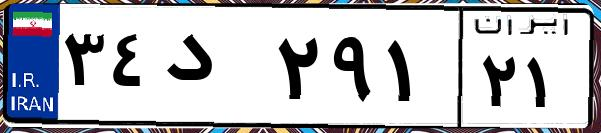1: (385, 28, 445, 110), (525, 38, 570, 115)
2: (270, 28, 330, 110), (475, 38, 525, 113)
3: (57, 26, 110, 100)
4: (110, 28, 158, 98)
9: (330, 28, 385, 110)
د: (158, 20, 270, 120)
